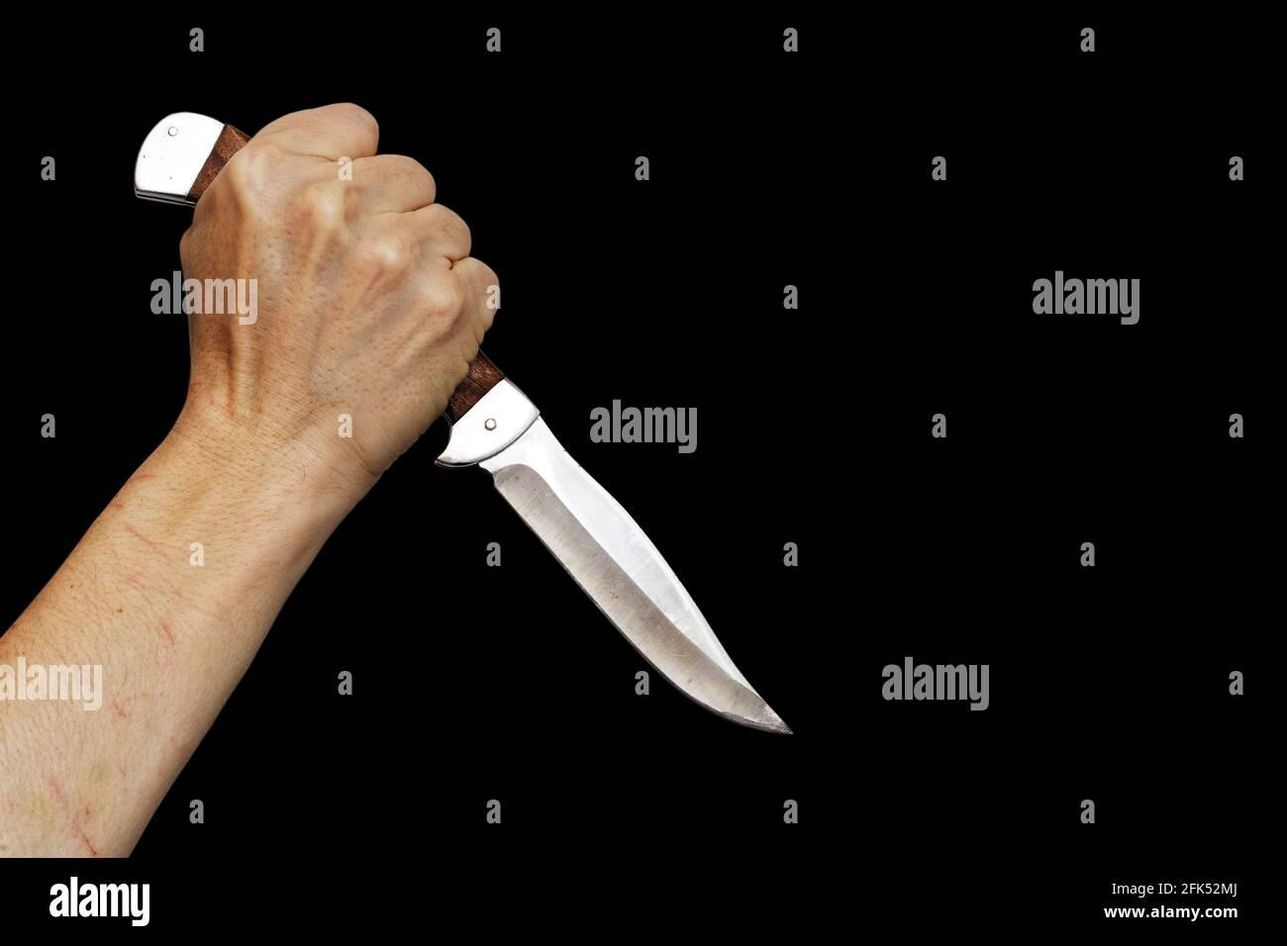Knife: (0, 100, 499, 861), (438, 359, 793, 736), (171, 98, 500, 459)
